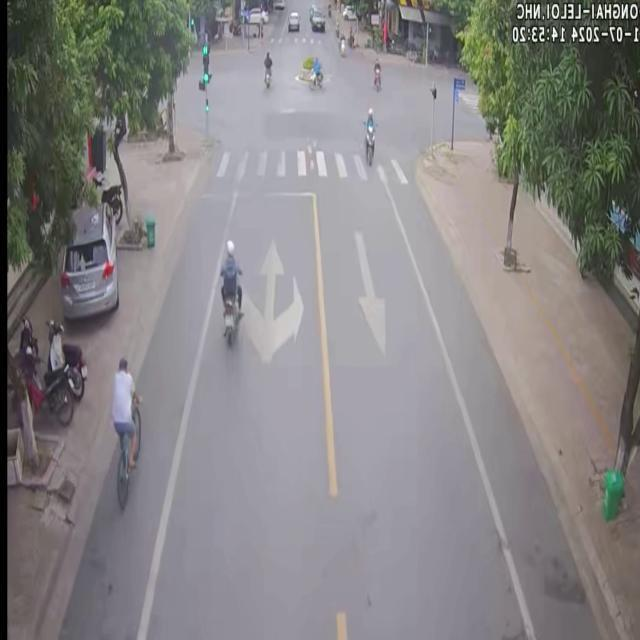car: (58, 194, 117, 318)
green_light: (201, 40, 209, 85)
motobike: (14, 316, 73, 422), (213, 232, 242, 362), (46, 318, 86, 398), (364, 113, 374, 159)
stop_line: (200, 189, 313, 196)
